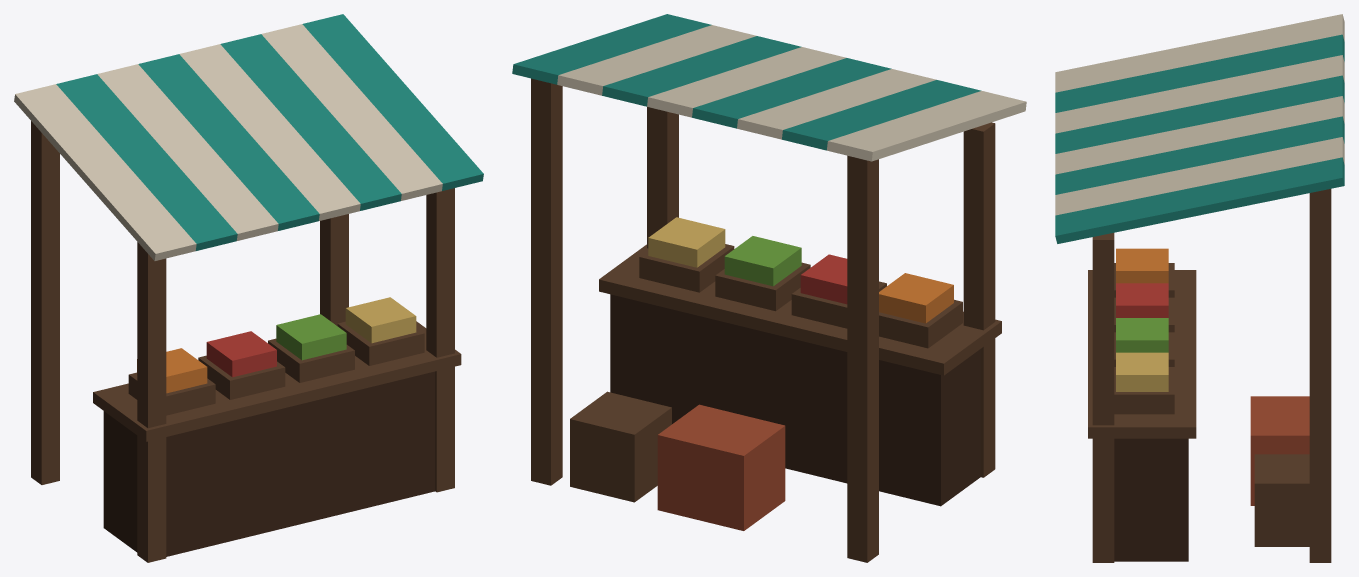
The model's file is dd_market_stall.glb.
3 views of the same model, side by side, from view 1: azimuth 30°, elevation 25°; view 2: azimuth 150°, elevation 25°; view 3: azimuth 270°, elevation 25° (orthographic). The views are drawn at different scales.
Visible parts, largest first — view 1: DUBG_dd_market_stall; view 2: DUBG_dd_market_stall; view 3: DUBG_dd_market_stall.
Part boxes in pixels (box(x1,y1,x2,y2)): DUBG_dd_market_stall: box(14, 14, 483, 562); DUBG_dd_market_stall: box(512, 14, 1026, 562); DUBG_dd_market_stall: box(1055, 14, 1344, 562).
Bounding box in the file's own units: 5.82 × 6.48 × 4.35.
